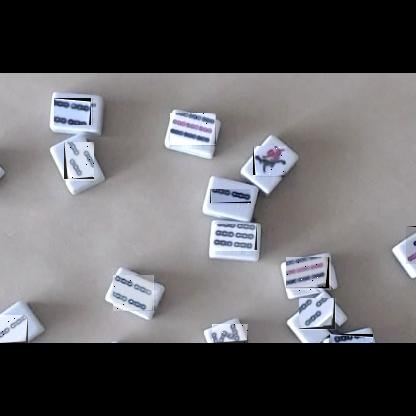1s: (253, 147, 286, 180)
2s: (0, 315, 28, 343), (210, 190, 251, 208)
3s: (300, 299, 340, 334), (64, 143, 94, 184)
4s: (114, 275, 157, 311), (55, 98, 96, 125)
5s: (329, 334, 373, 343)
6s: (212, 225, 257, 255)
7s: (406, 226, 416, 264)
8s: (212, 324, 248, 343)
9s: (287, 258, 334, 293), (170, 114, 216, 149)
